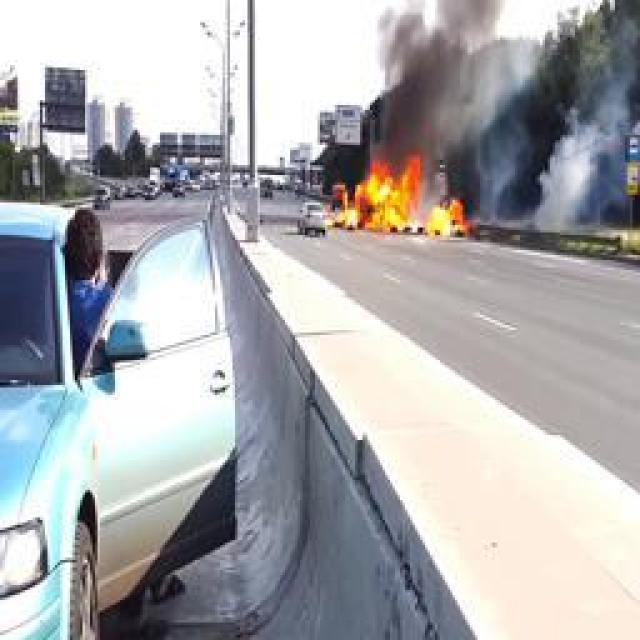Fire: (332, 154, 470, 238)
